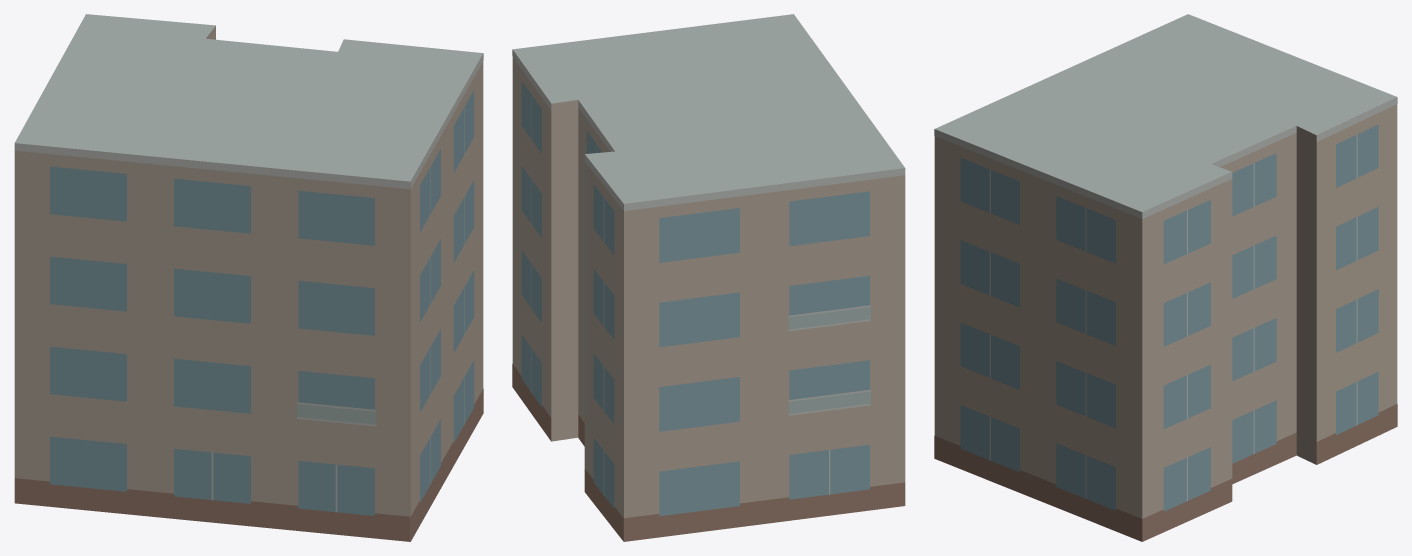
Rendered from survey-upis-32639005.glb.
The picture shows the model from 3 angles, left to right: view 1: azimuth 30°, elevation 25°; view 2: azimuth 150°, elevation 25°; view 3: azimuth 270°, elevation 25°; orthographic projection. The views are drawn at different scales.
Parts seen in each view (by area): view 1: survey-upis-32639005.tmp; view 2: survey-upis-32639005.tmp; view 3: survey-upis-32639005.tmp.
Part boxes in pixels (x1,y1,x2,y2): survey-upis-32639005.tmp: (14,14,483,541); survey-upis-32639005.tmp: (512,14,905,541); survey-upis-32639005.tmp: (934,14,1397,541).
Size of the model in its own units: 14.9 by 11.55 by 14.7.
